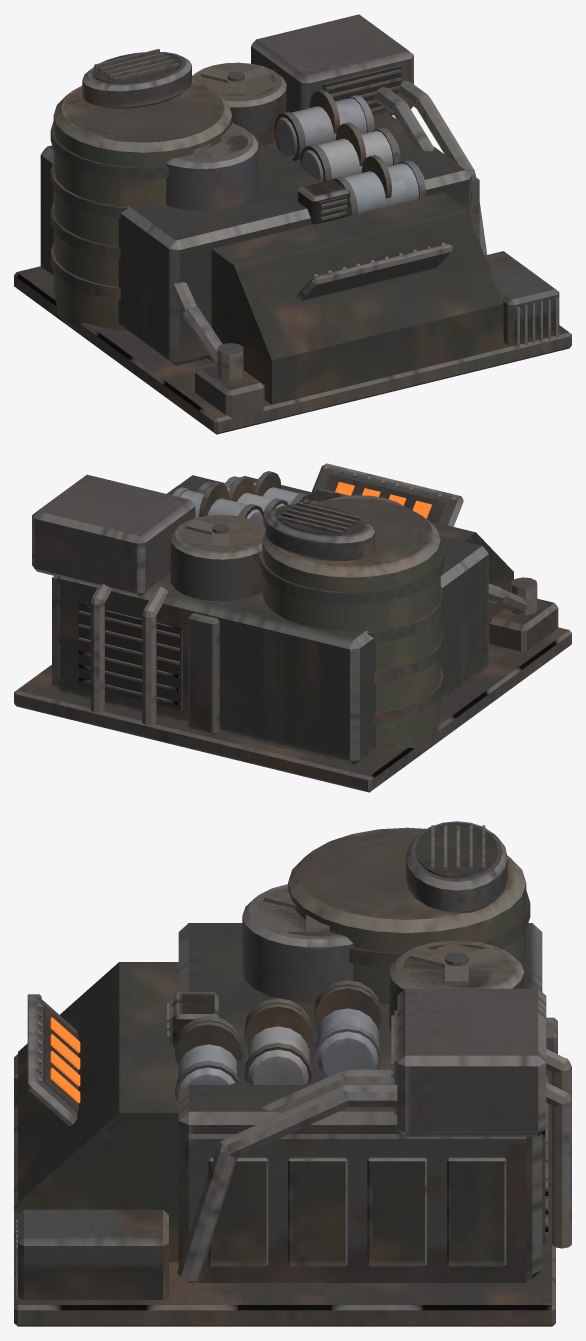
The model's file is electric-furnace.glb.
3 views of the same model, one above another, from view 1: azimuth 30°, elevation 25°; view 2: azimuth 150°, elevation 25°; view 3: azimuth 270°, elevation 25° (orthographic). The views are drawn at different scales.
Visible parts, largest first — view 1: body, anim_spin_fan.001; view 2: body, anim_spin_fan.001, anim_glow_heater; view 3: body, anim_spin_fan.001, anim_glow_heater, anim_spin_fan.
Boxes of the visible parts, x1=… form: body: x1=14, y1=14, x2=571, y2=434; anim_spin_fan.001: x1=201, y1=67, x2=271, y2=95; body: x1=14, y1=463, x2=571, y2=792; anim_spin_fan.001: x1=185, y1=519, x2=256, y2=547; anim_glow_heater: x1=335, y1=482, x2=431, y2=518; body: x1=14, y1=821, x2=571, y2=1326; anim_spin_fan.001: x1=409, y1=947, x2=503, y2=984; anim_glow_heater: x1=50, y1=1017, x2=80, y2=1103; anim_spin_fan: x1=263, y1=889, x2=329, y2=931.
Bounding box in the file's own units: 2.82 × 1.7 × 2.81.
2 materials, 2 textured.
